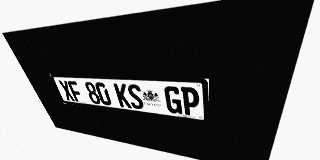0: (94, 82, 112, 106)
8: (83, 82, 102, 104)
F: (67, 81, 84, 102)
G: (164, 86, 182, 114)
K: (113, 83, 132, 108)
P: (181, 87, 199, 116)
S: (126, 84, 145, 110)
X: (58, 80, 75, 101)
